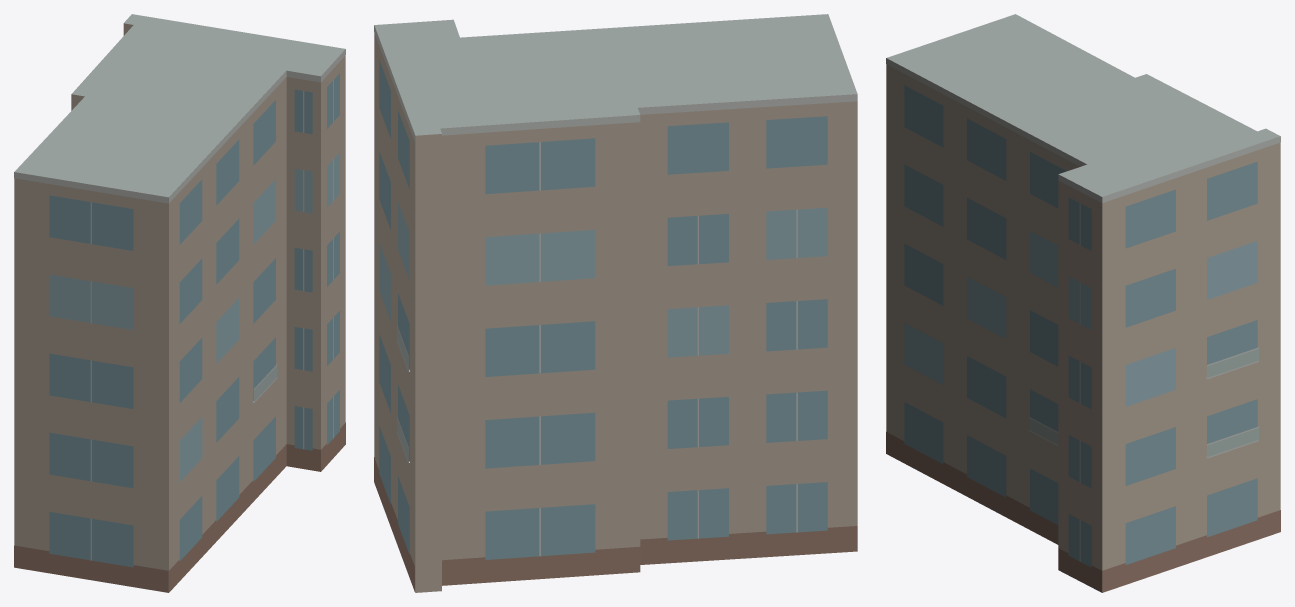
The model's file is survey-upis-32725002.glb.
3 views of the same model, side by side, from view 1: azimuth 30°, elevation 25°; view 2: azimuth 150°, elevation 25°; view 3: azimuth 270°, elevation 25° (orthographic). The views are drawn at different scales.
Parts seen in each view (by area): view 1: survey-upis-32725002.tmp; view 2: survey-upis-32725002.tmp; view 3: survey-upis-32725002.tmp.
Part boxes in pixels (bbox=[...]): survey-upis-32725002.tmp: bbox=[14, 14, 345, 592]; survey-upis-32725002.tmp: bbox=[374, 14, 857, 592]; survey-upis-32725002.tmp: bbox=[886, 14, 1280, 592].
Bounding box in the file's own units: 15.48 × 15.6 × 14.1.
